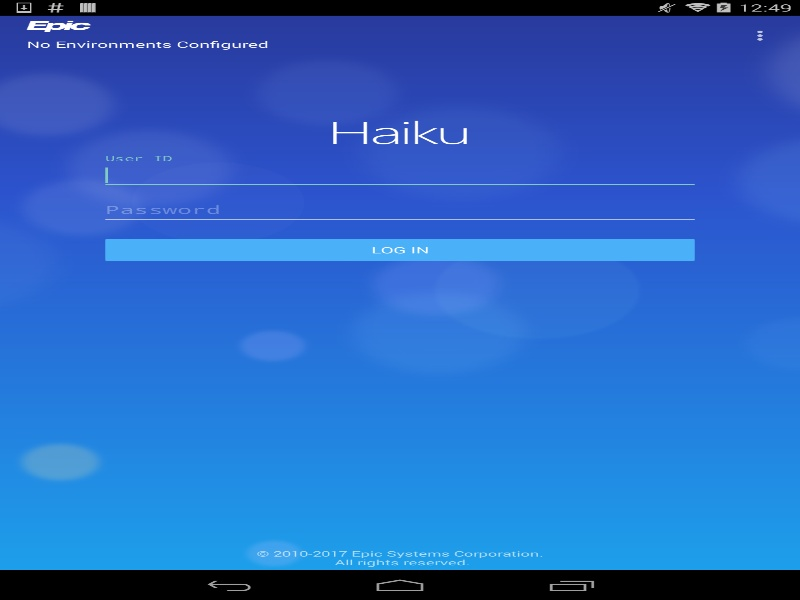Button: (100, 235, 700, 265)
Input: (100, 196, 700, 225), (100, 161, 700, 189)
